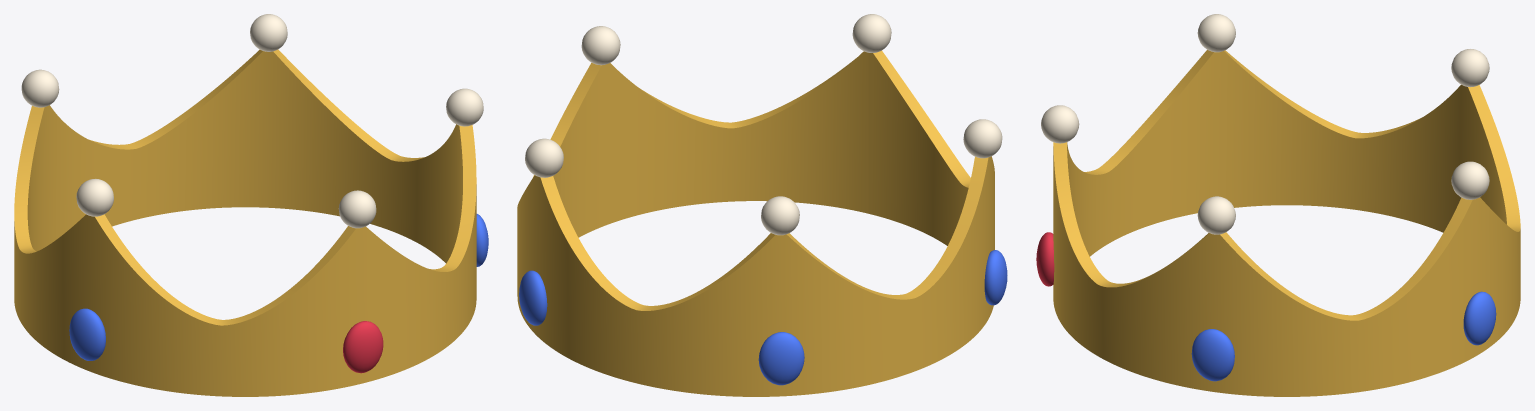
The model's file is crown.glb.
The picture shows the model from 3 angles, left to right: view 1: azimuth 30°, elevation 25°; view 2: azimuth 150°, elevation 25°; view 3: azimuth 270°, elevation 25°; orthographic projection. The views are drawn at different scales.
Parts seen in each view (by area): view 1: crown_band, gem_1, gem_5, pearl_2, pearl_4, pearl_1, pearl_3, pearl_5, gem_2; view 2: crown_band, gem_4, gem_3, pearl_4, pearl_5, pearl_2, pearl_3, pearl_1, gem_5; view 3: crown_band, gem_2, gem_3, pearl_3, pearl_1, pearl_5, pearl_2, pearl_4, gem_1.
Part boxes in pixels (x1,y1,x2,y2): crown_band: (14,49,476,396); gem_1: (343,321,383,373); gem_5: (69,308,105,360); pearl_2: (446,88,483,126); pearl_4: (21,69,59,107); pearl_1: (338,190,376,228); pearl_3: (250,14,287,51); pearl_5: (76,178,113,216); gem_2: (476,214,488,266); crown_band: (517,50,994,396); gem_4: (758,332,804,385); gem_3: (519,270,547,325); pearl_4: (761,196,799,235); pearl_5: (963,119,1002,158); pearl_2: (581,26,620,65); pearl_3: (525,138,563,177); pearl_1: (852,14,891,52); gem_5: (984,250,1007,305); crown_band: (1053,50,1520,396); gem_2: (1191,329,1234,381); gem_3: (1463,291,1496,345); pearl_3: (1451,161,1489,199); pearl_1: (1041,105,1079,143); pearl_5: (1197,14,1235,52); pearl_2: (1197,196,1235,234); pearl_4: (1451,49,1489,87); gem_1: (1036,232,1054,286).
Bounding box in the file's own units: 4.26 × 1.87 × 4.29.
